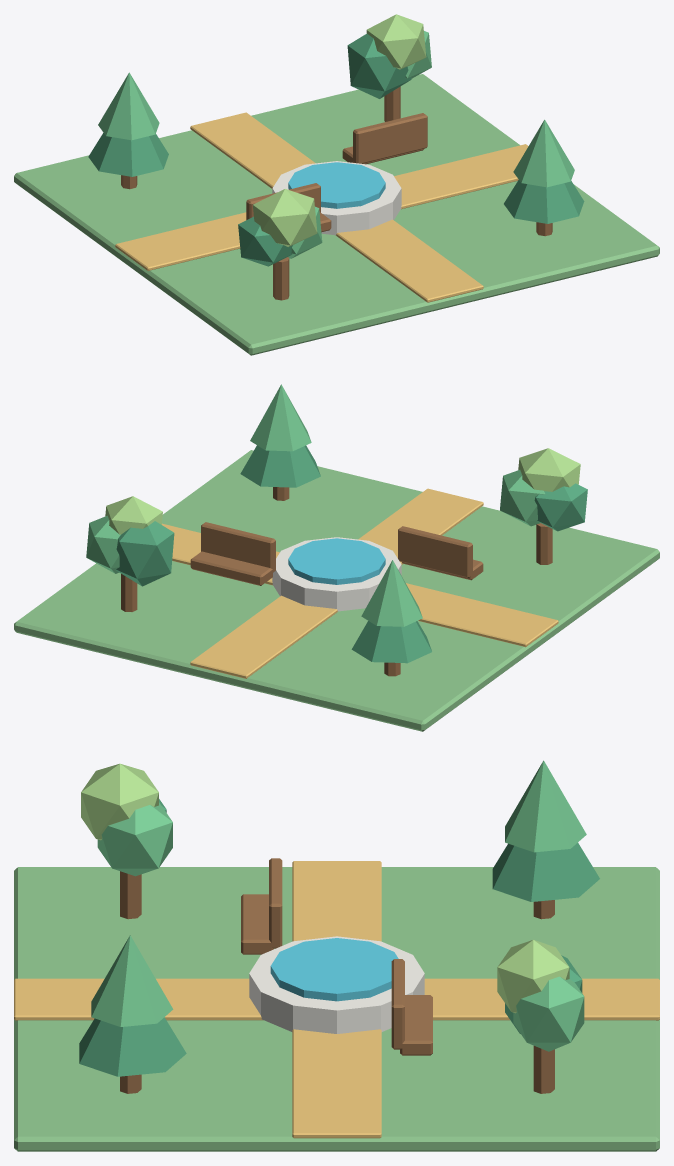
File: PARK_2x2_001.glb
The picture shows the model from 3 angles, top to bottom: view 1: azimuth 30°, elevation 25°; view 2: azimuth 150°, elevation 25°; view 3: azimuth 270°, elevation 25°; orthographic projection. The views are drawn at different scales.
Parts seen in each view (by area): view 1: PARK_2x2_001_Visual; view 2: PARK_2x2_001_Visual; view 3: PARK_2x2_001_Visual.
Boxes of the visible parts, x1=… form: PARK_2x2_001_Visual: x1=14, y1=14, x2=659, y2=355; PARK_2x2_001_Visual: x1=14, y1=384, x2=659, y2=731; PARK_2x2_001_Visual: x1=14, y1=760, x2=659, y2=1151.
Size of what is drawn, in the model's own units: 3.9 by 1.13 by 3.9.
